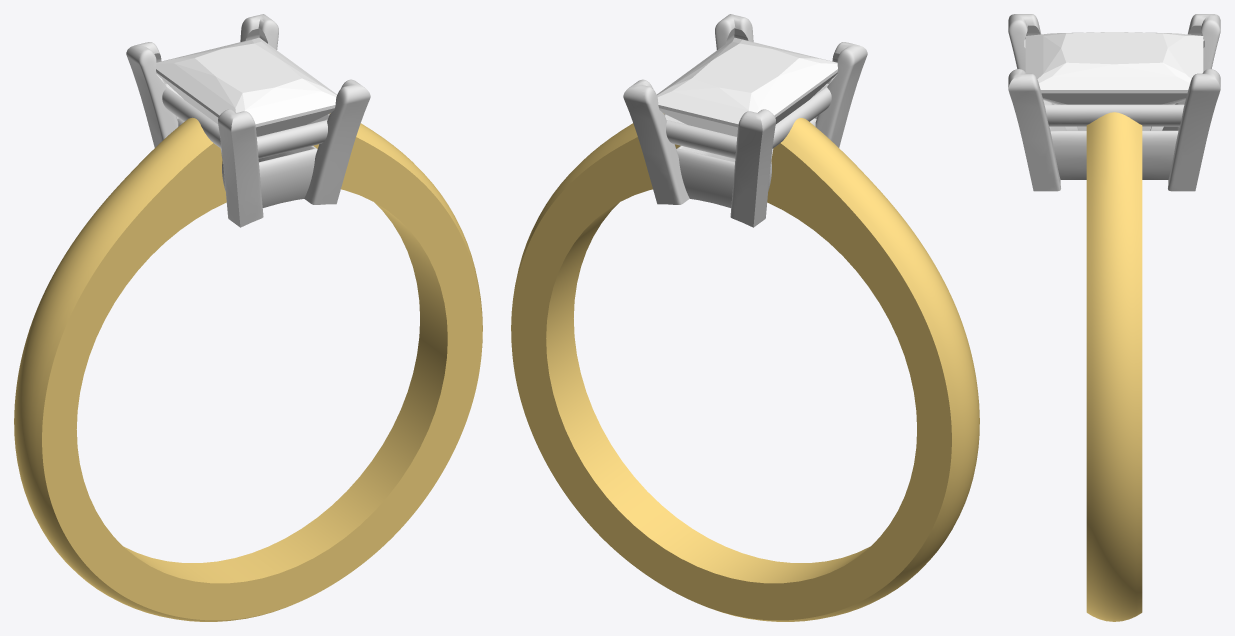
File: AndrewYG_webgi (1).glb
3 views of the same model, side by side, from view 1: azimuth 30°, elevation 25°; view 2: azimuth 150°, elevation 25°; view 3: azimuth 270°, elevation 25° (orthographic).
Visible parts, largest first — view 1: andrew_YG_for_3d_model, andrew_PT_for_3d_model, andrew_dia_for_3d_model; view 2: andrew_YG_for_3d_model, andrew_PT_for_3d_model, andrew_dia_for_3d_model; view 3: andrew_YG_for_3d_model, andrew_PT_for_3d_model, andrew_dia_for_3d_model.
Boxes of the visible parts, x1=… form: andrew_YG_for_3d_model: x1=14, y1=113, x2=482, y2=621; andrew_PT_for_3d_model: x1=126, y1=14, x2=370, y2=227; andrew_dia_for_3d_model: x1=156, y1=37, x2=336, y2=136; andrew_YG_for_3d_model: x1=511, y1=113, x2=979, y2=621; andrew_PT_for_3d_model: x1=623, y1=14, x2=867, y2=227; andrew_dia_for_3d_model: x1=657, y1=37, x2=837, y2=136; andrew_YG_for_3d_model: x1=1086, y1=112, x2=1142, y2=621; andrew_PT_for_3d_model: x1=1008, y1=14, x2=1220, y2=191; andrew_dia_for_3d_model: x1=1025, y1=32, x2=1203, y2=104.
Bounding box in the file's own units: 2.54 × 2.92 × 1.01.
